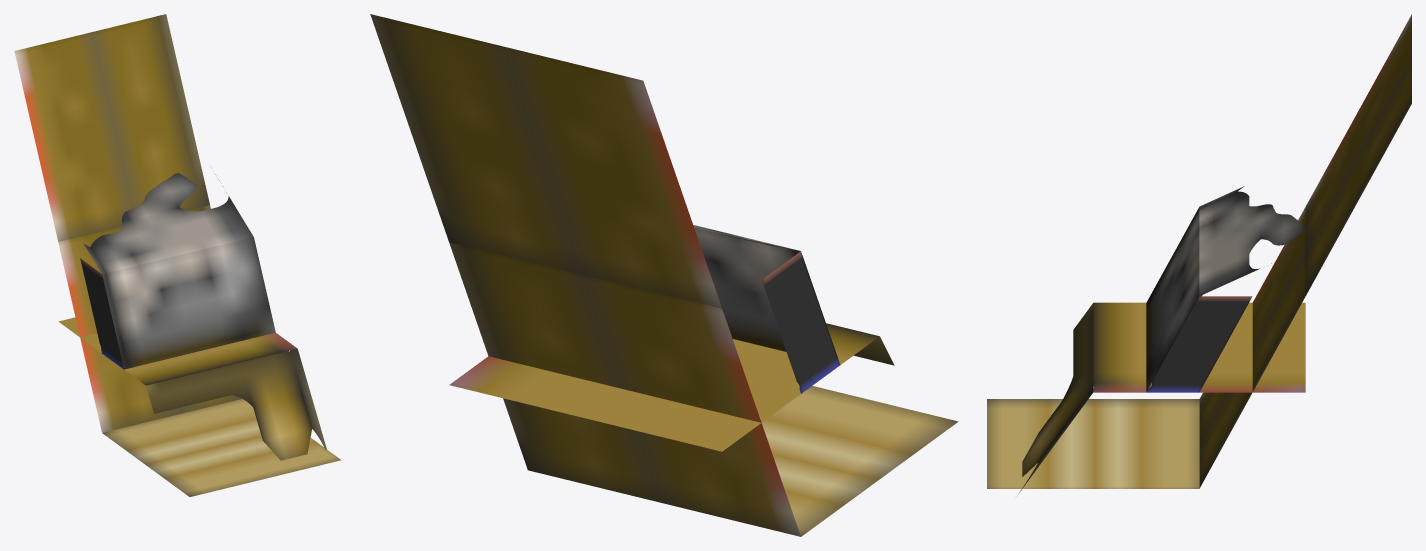
File: tile_indoors_radio.obj
The picture shows the model from 3 angles, left to right: view 1: azimuth 30°, elevation 25°; view 2: azimuth 150°, elevation 25°; view 3: azimuth 270°, elevation 25°; orthographic projection. The views are drawn at different scales.
Parts seen in each view (by area): view 1: Default; view 2: Default; view 3: Default.
Part boxes in pixels (x1,y1,x2,y2): Default: (14,14,341,496); Default: (370,14,958,536); Default: (987,14,1411,494).
Size of the model in its own units: 1 by 2.25 by 2.
